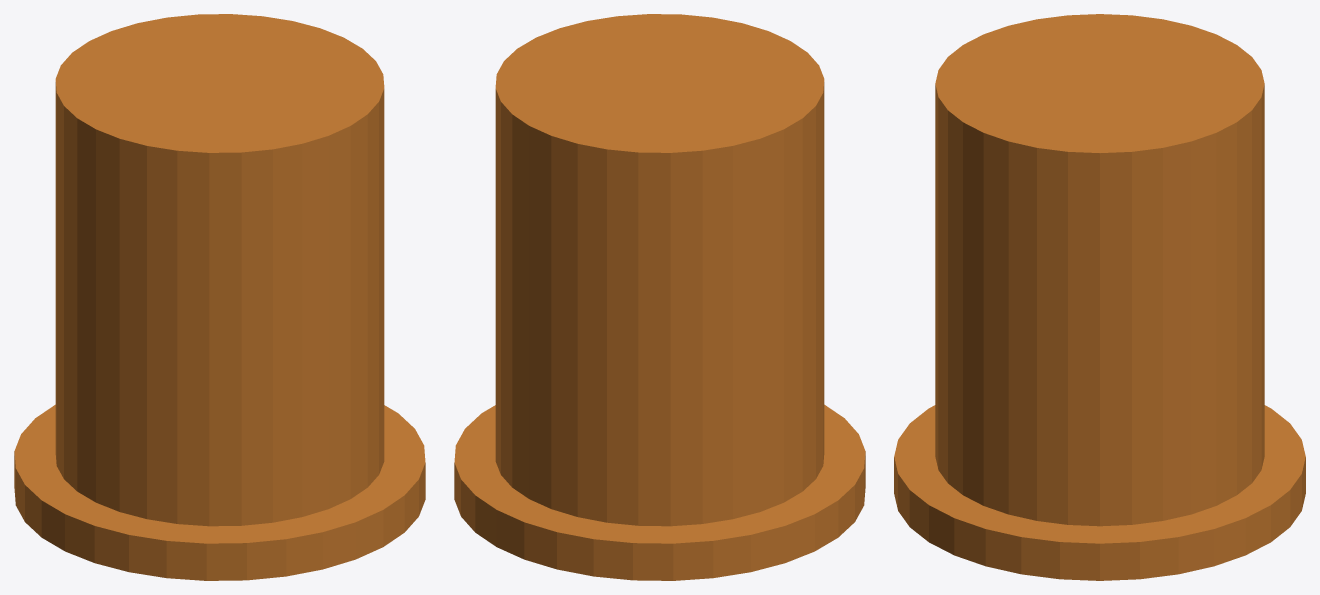
The model's file is hat7.fbx.
3 renders of one model, left to right at view 1: azimuth 30°, elevation 25°; view 2: azimuth 150°, elevation 25°; view 3: azimuth 270°, elevation 25°, orthographic.
Visible parts, largest first — view 1: Cylinder.001, Cylinder; view 2: Cylinder.001, Cylinder; view 3: Cylinder.001, Cylinder.
Part boxes in pixels (bbox=[...]): Cylinder.001: bbox=[55, 14, 384, 526]; Cylinder: bbox=[14, 404, 425, 580]; Cylinder.001: bbox=[495, 14, 824, 526]; Cylinder: bbox=[454, 404, 865, 580]; Cylinder.001: bbox=[935, 14, 1264, 526]; Cylinder: bbox=[894, 405, 1305, 580].
Bounding box in the file's own units: 200 × 220 × 200.
